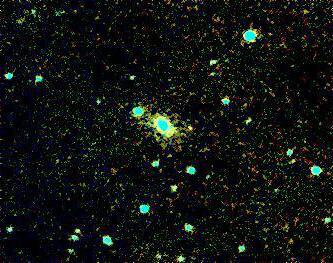star: (177, 113, 207, 143)
